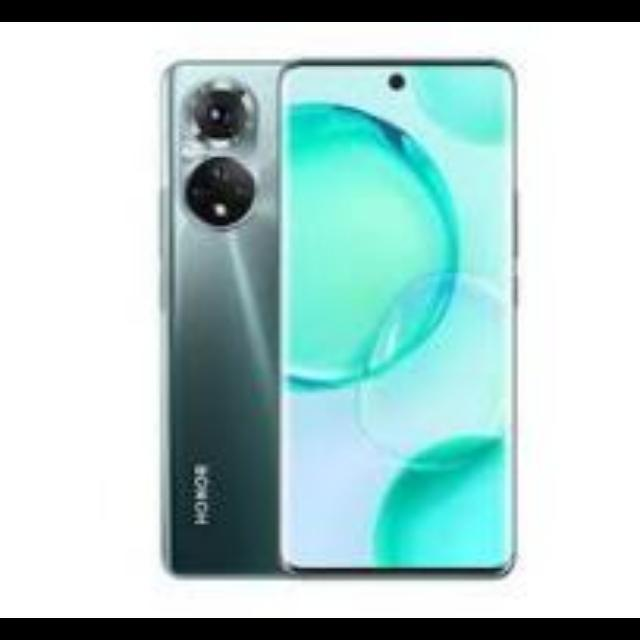PhoneUse: (290, 60, 520, 580), (154, 61, 278, 572)
